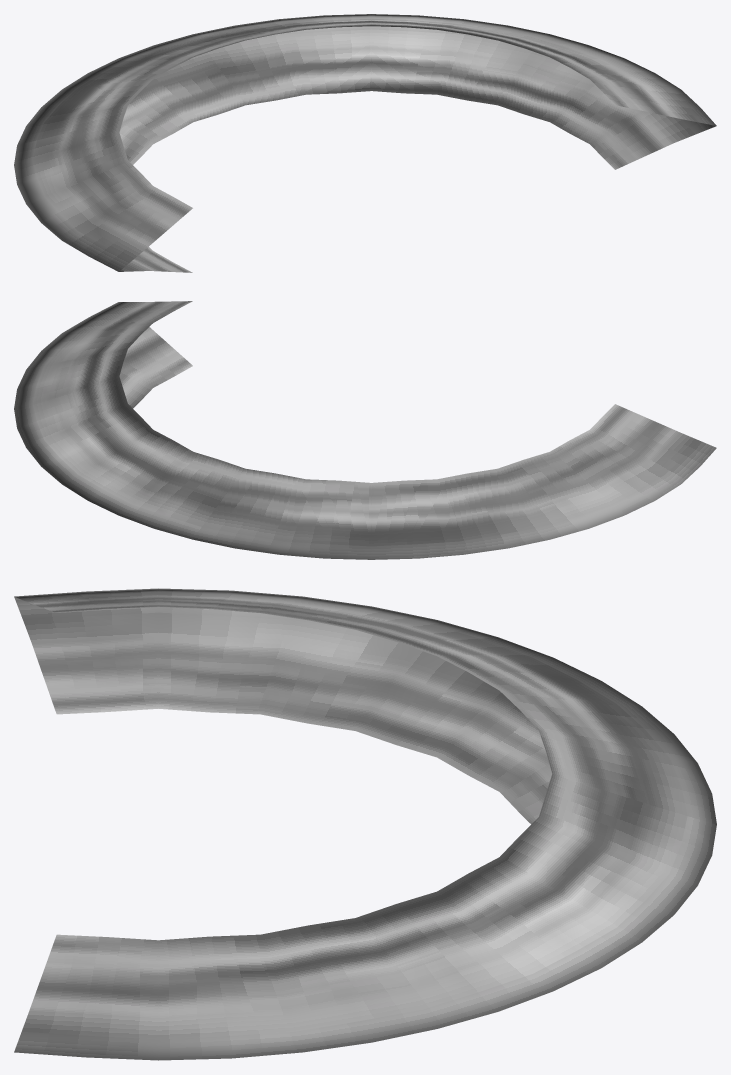
3 renders of one model, top to bottom at view 1: azimuth 30°, elevation 25°; view 2: azimuth 150°, elevation 25°; view 3: azimuth 270°, elevation 25°, orthographic. The views are drawn at different scales.
Parts seen in each view (by area): view 1: SM_Attack_Thin_04_336_LOD0; view 2: SM_Attack_Thin_04_336_LOD0; view 3: SM_Attack_Thin_04_336_LOD0.
Boxes of the visible parts, x1=… form: SM_Attack_Thin_04_336_LOD0: x1=14, y1=14, x2=716, y2=272; SM_Attack_Thin_04_336_LOD0: x1=14, y1=301, x2=716, y2=559; SM_Attack_Thin_04_336_LOD0: x1=14, y1=588, x2=716, y2=1060.
Bounding box in the file's own units: 4.07 × 0.4149 × 2.56.
Materials: 1 (1 with a texture image).
